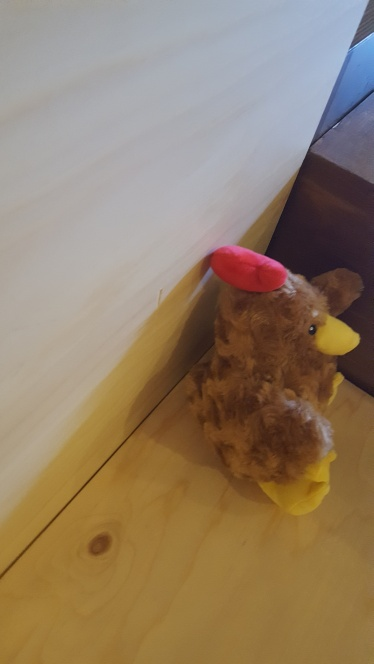chicken_left: (194, 241, 337, 512)
